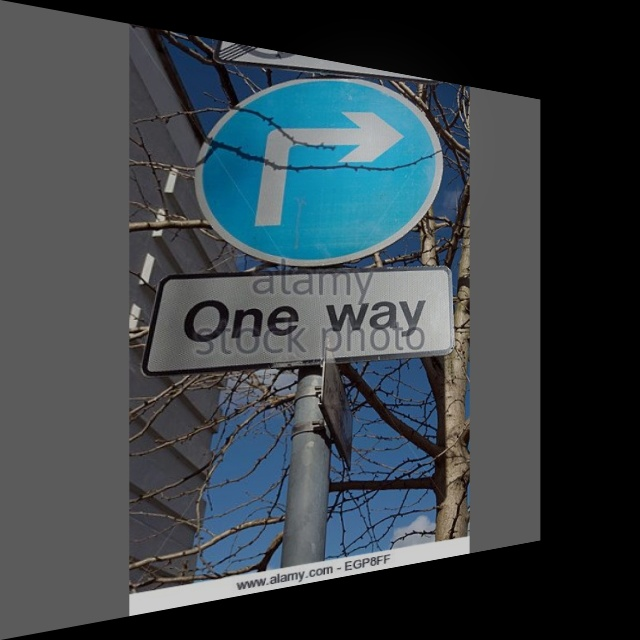Compulsory_Turn_Right_Ahead: (194, 51, 440, 263)
